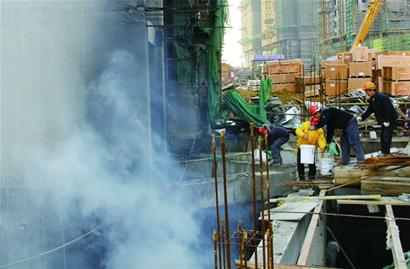smoke: (6, 8, 202, 263)
